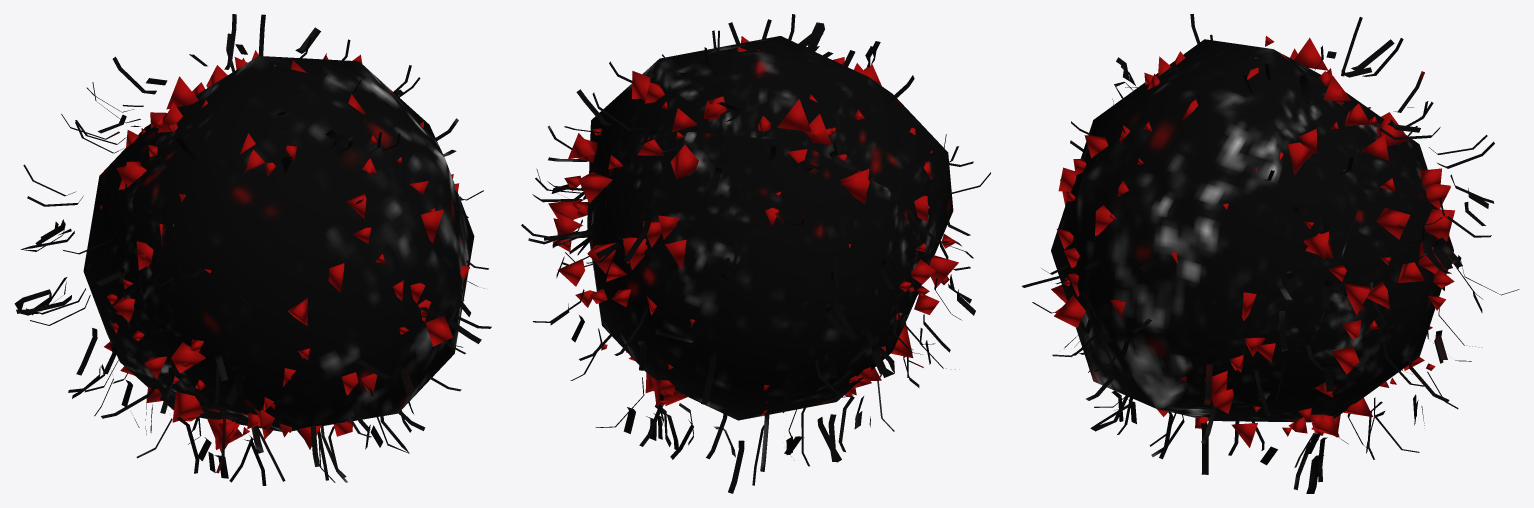
File: SpiderBall.glb
The picture shows the model from 3 angles, left to right: view 1: azimuth 30°, elevation 25°; view 2: azimuth 150°, elevation 25°; view 3: azimuth 270°, elevation 25°; orthographic projection. The views are drawn at different scales.
Parts seen in each view (by area): view 1: Icosphere; view 2: Icosphere; view 3: Icosphere.
Boxes of the visible parts, box(x1,y1,x2,y2) form: Icosphere: box(14, 14, 491, 485); Icosphere: box(521, 14, 990, 493); Icosphere: box(1022, 14, 1519, 493).
Bounding box in the file's own units: 2.21 × 2.16 × 2.24.
Materials: 1 (1 with a texture image).
